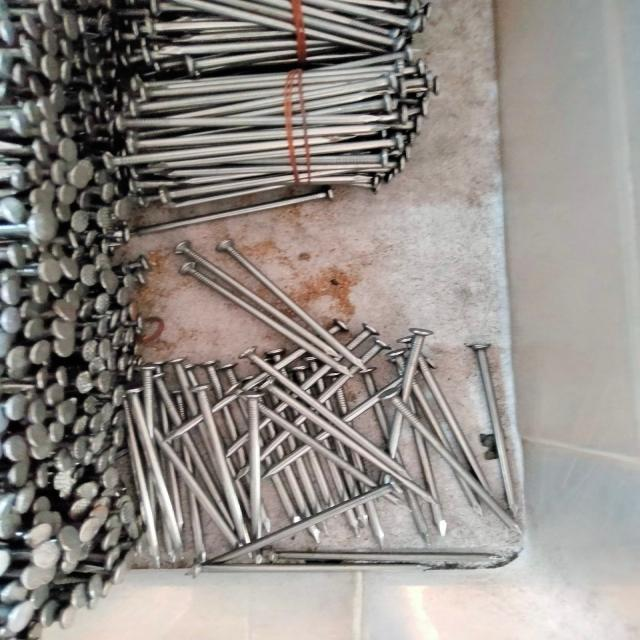3x10 nail: (168, 228, 398, 384), (181, 379, 319, 564), (451, 328, 542, 536)
